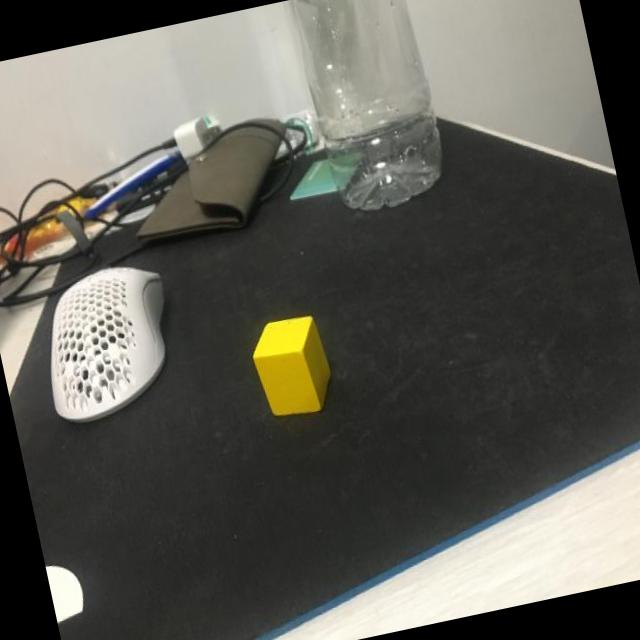yellow: (246, 312, 340, 422)
